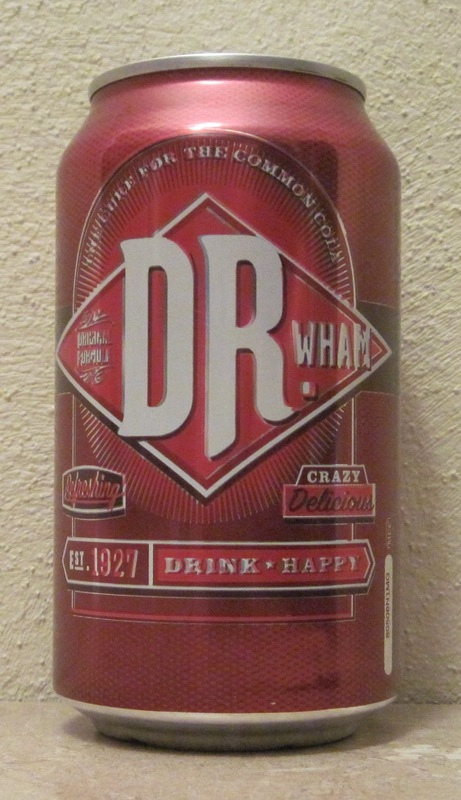Can: (61, 57, 405, 741)
